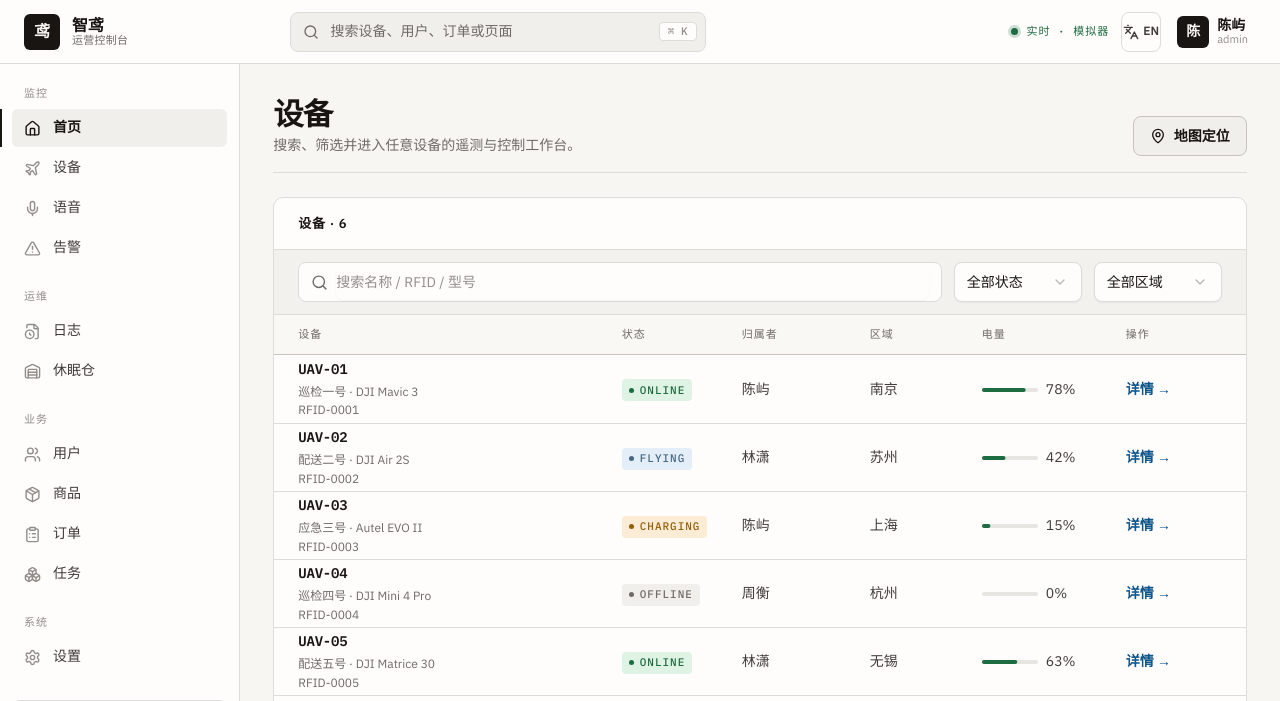
Test: UavListView › filters by free text
In the field with placeholder "搜索名称 / RFID / 型号": (633, 282) left=336, top=264, right=929, bottom=300, type "UAV-02"
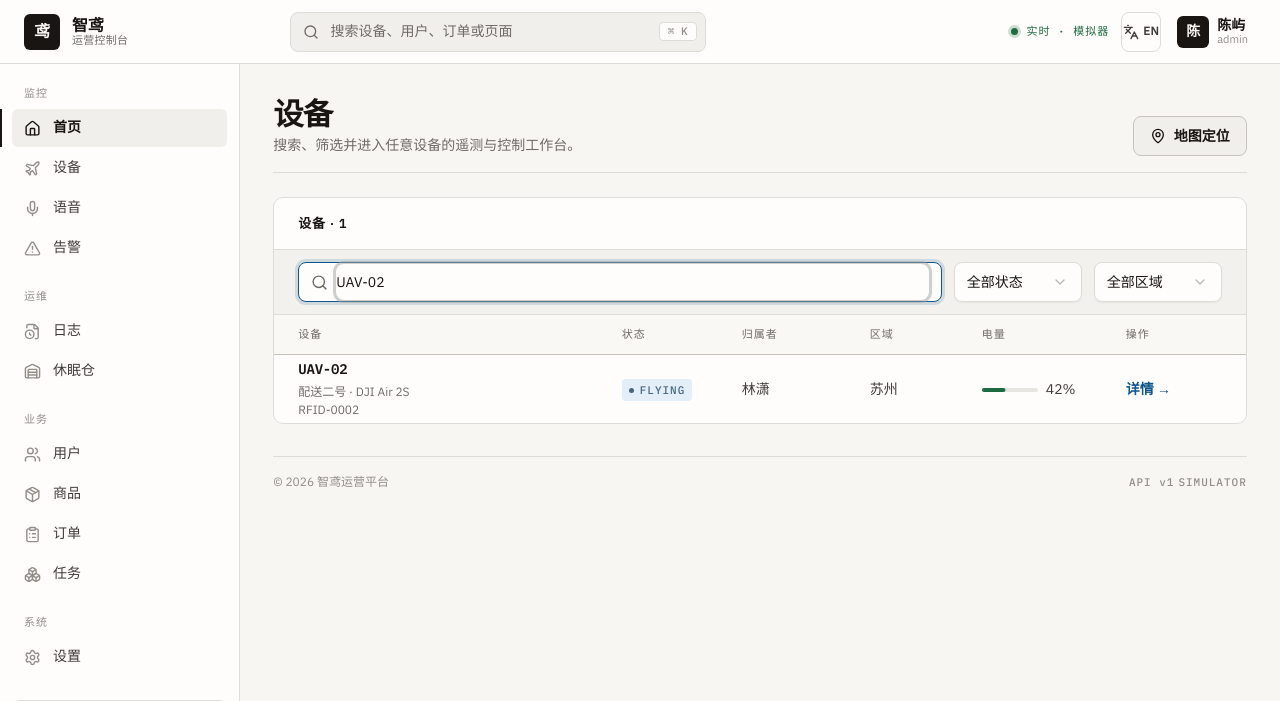
Now the heading "设备 · 1" is shown, box left=298, top=214, right=348, bottom=234
Now the text "UAV-01" is gone
